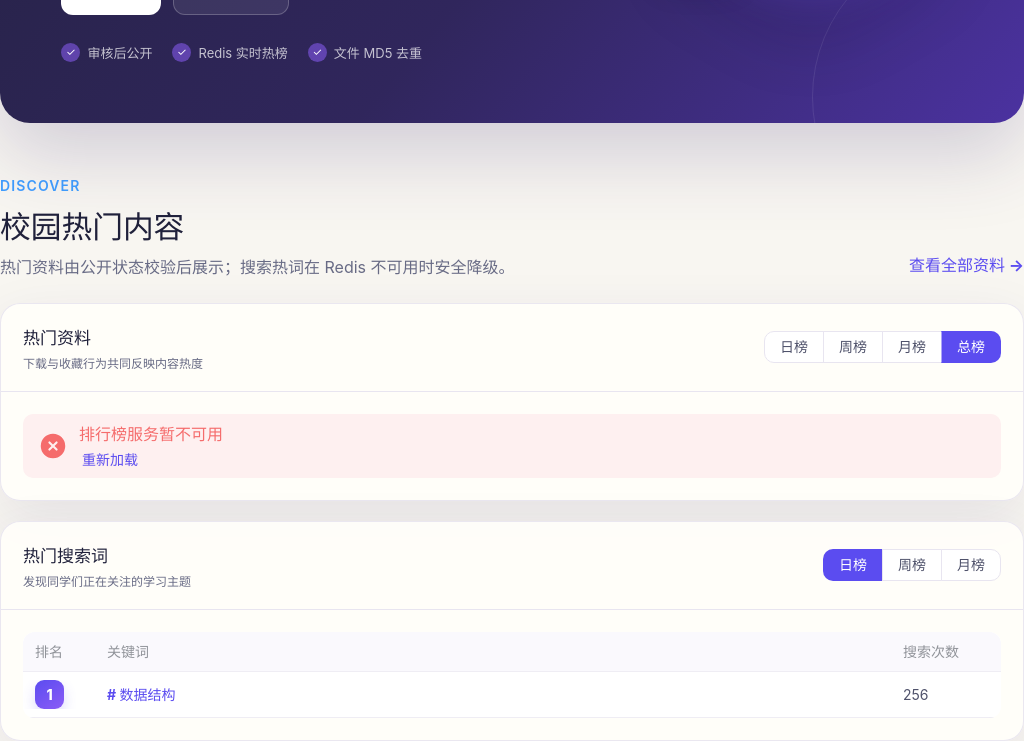
HomeView › 排行榜加载失败后应支持重新加载
(page scrolled)
Step 1. Click the button with test id "retry-resource-ranking" → [110, 460], box [79,450,141,470]
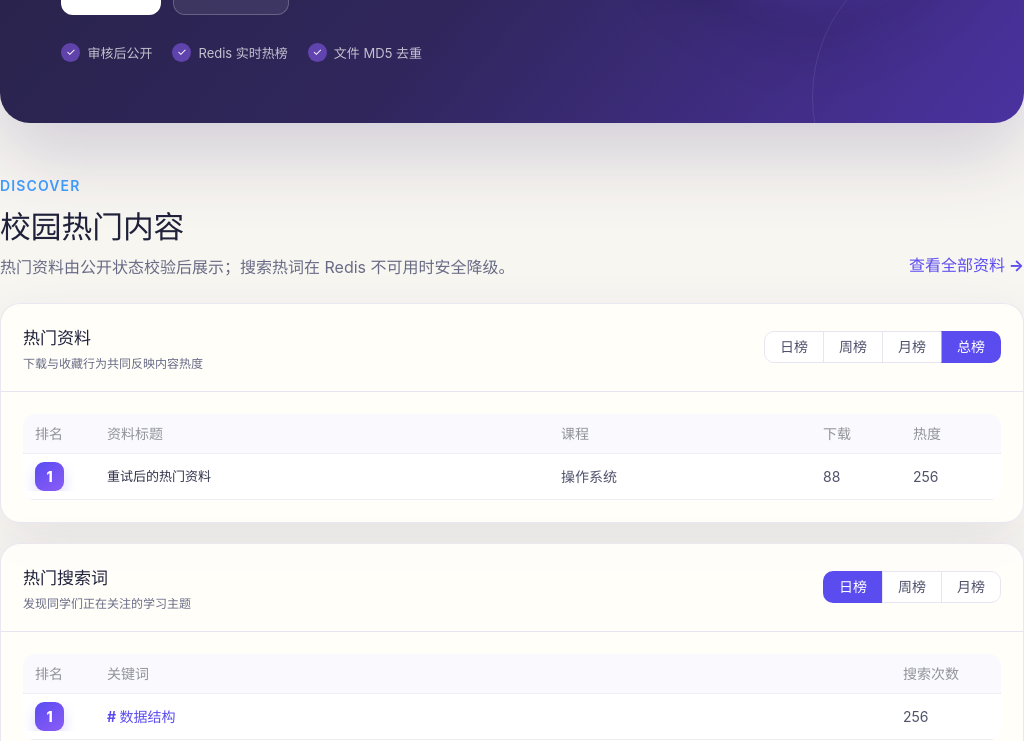
Now the text "重试后的热门资料" is shown, box [107,468,211,484]
